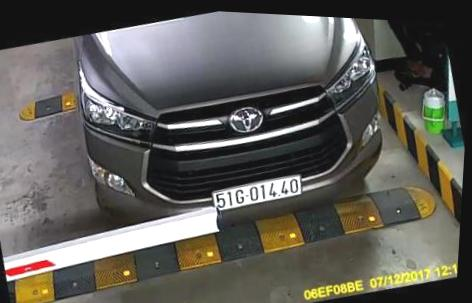License_Plate: (209, 170, 311, 220)
